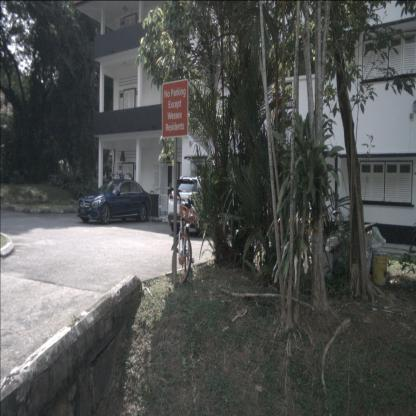vehicle-bicycle: (171, 189, 195, 285)
vehicle-car: (168, 176, 229, 234), (78, 179, 152, 225)
